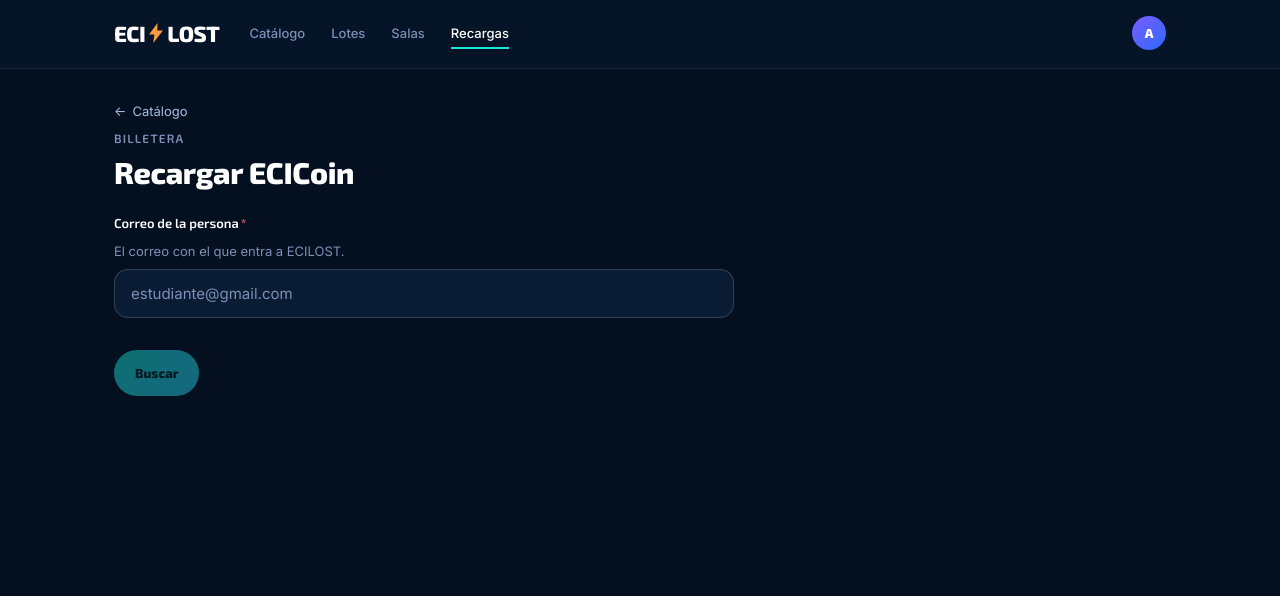
Billetera › un correo sin cuenta se explica, y no llega a pedir la cantidad
In the field labelled "Correo de la persona*": (424, 294) 114,269 -> 734,318, type "nadie@gmail.com"
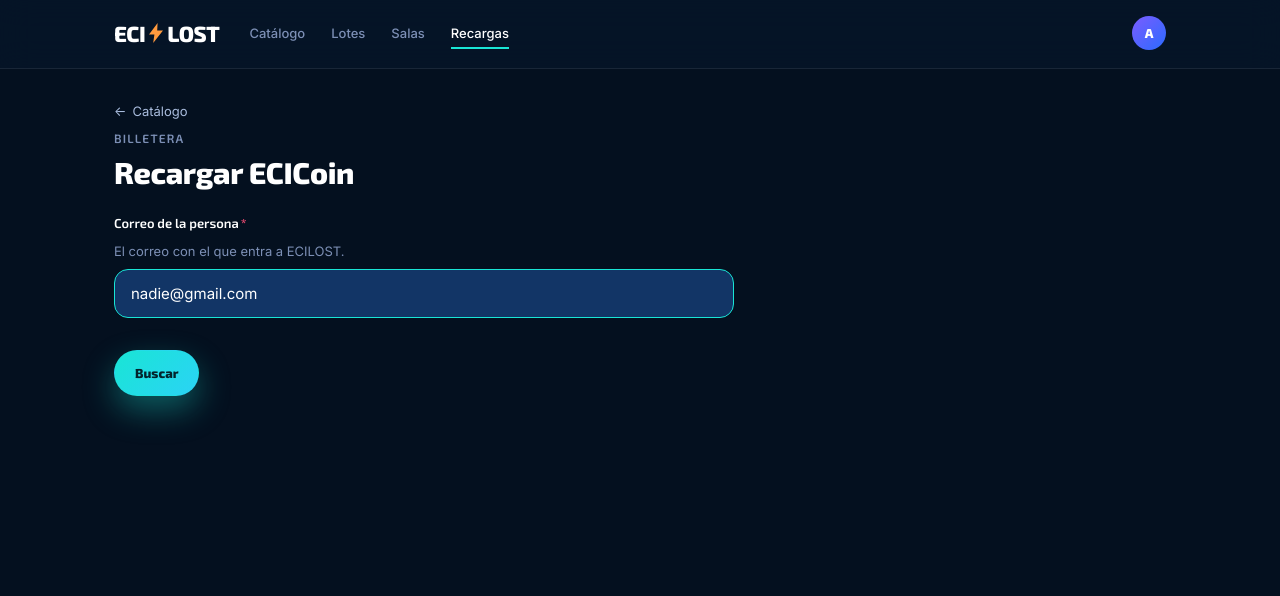
Click the button "Buscar": (157, 373) 114,350 -> 199,396
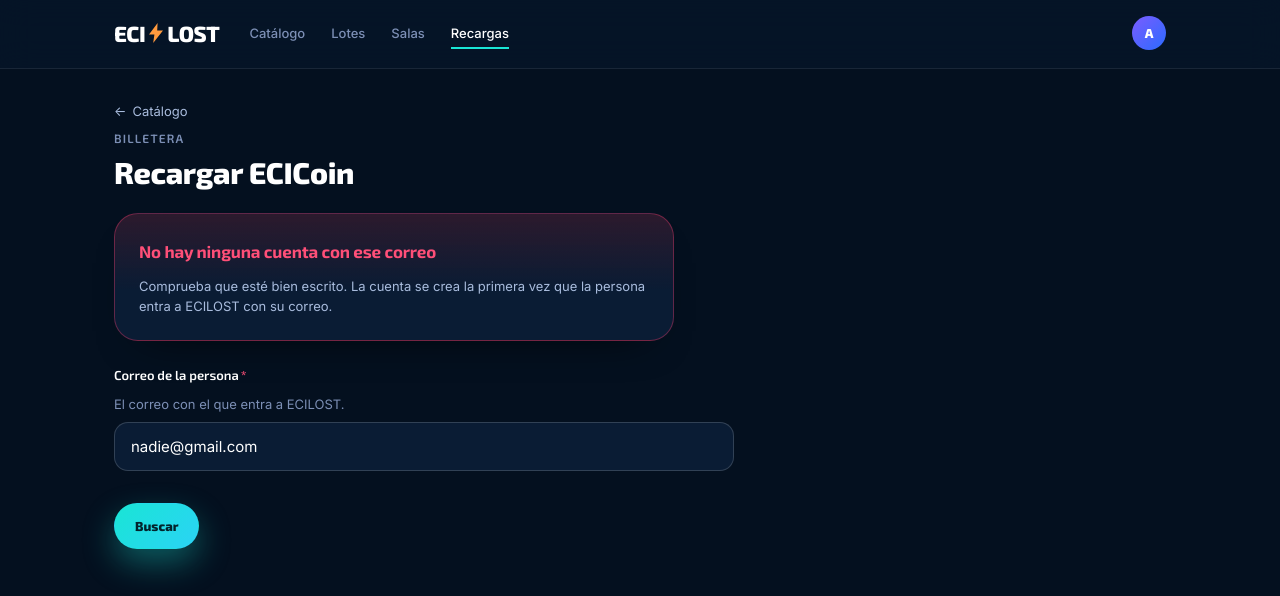
Expected: the message shows "No hay ninguna cuenta con ese correo", 139,241 -> 436,261
